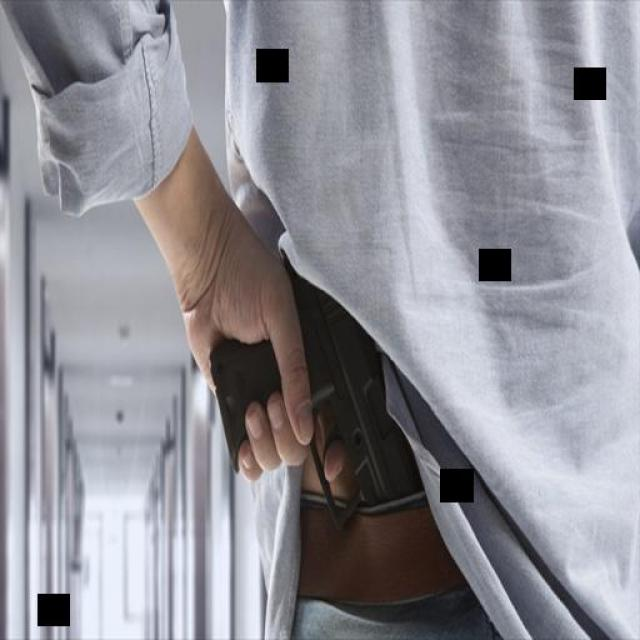gun: (205, 241, 446, 541)
